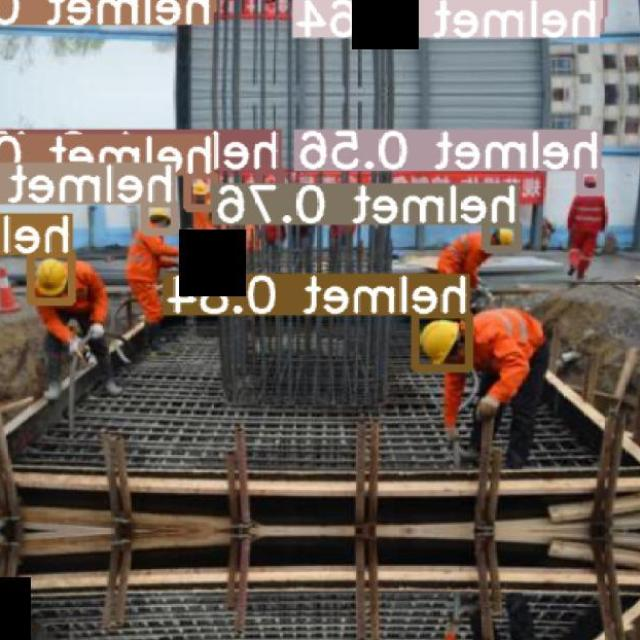helmet: (420, 319, 461, 364), (35, 258, 69, 296)
